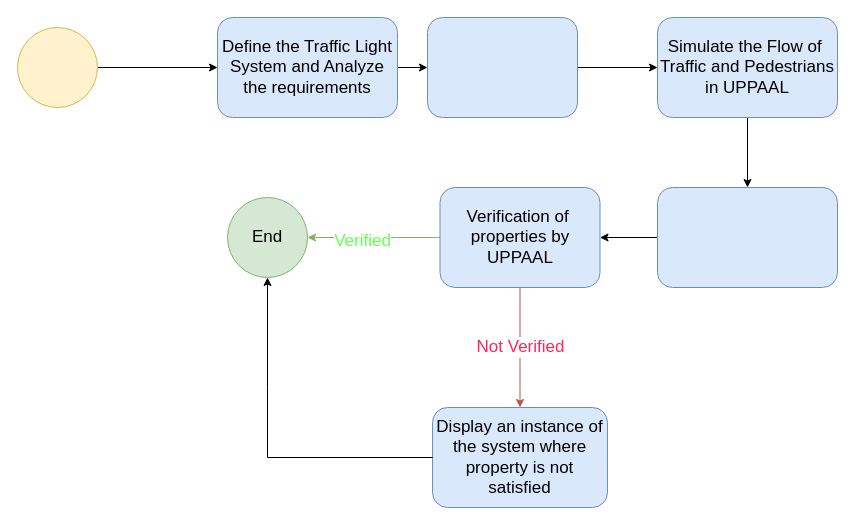
The diagram is 855 pixels wide and 525 high, and some of its shapes have lost their labels. Each missing label, with the centre of its shape:
Express Reachability, safety , deadlock and other properties in UPPAAL: (747,237)
Model the Traffic Light System in Uppaal: (502,67)
Start: (57,67)
